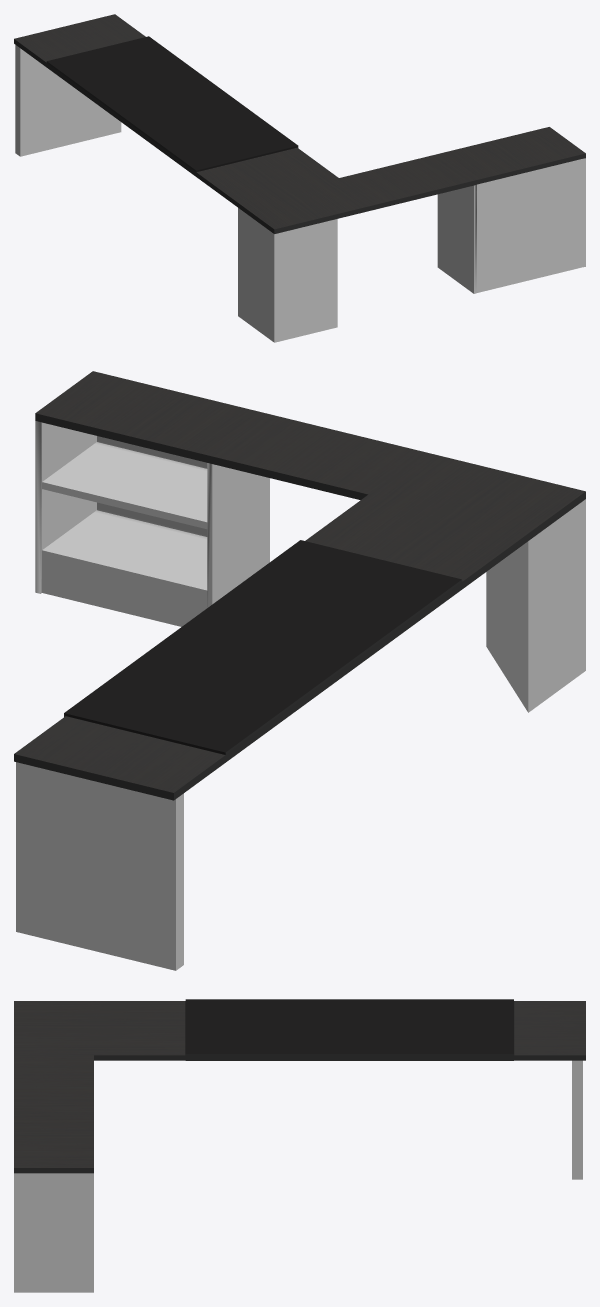
Rendered from desk 1.FBX.
3 views of the same model, one above another, from view 1: azimuth 30°, elevation 25°; view 2: azimuth 150°, elevation 25°; view 3: azimuth 270°, elevation 25° (orthographic). The views are drawn at different scales.
Parts seen in each view (by area): view 1: Object002_; view 2: Object002_; view 3: Object002_.
Part boxes in pixels (<box>): Object002_: <box>14,14,585,342</box>; Object002_: <box>14,371,585,970</box>; Object002_: <box>14,999,585,1292</box>.
Bounding box in the file's own units: 579 × 204 × 838.
1 material, 1 textured.
